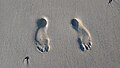human_footprint: (71, 18, 91, 50), (35, 17, 50, 53)
